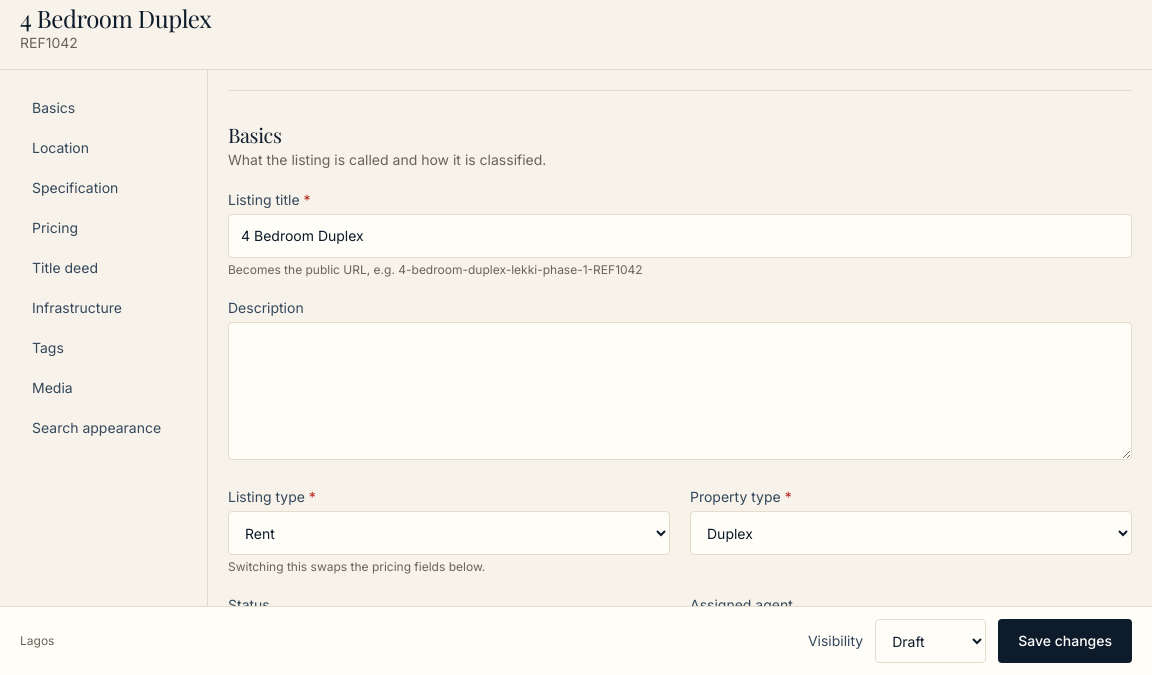
Scenario: PropertyForm › maps a server validation error back onto its field
Click the button "Save changes".
click(1065, 641)  # box [998, 619, 1132, 663]
(page scrolled)
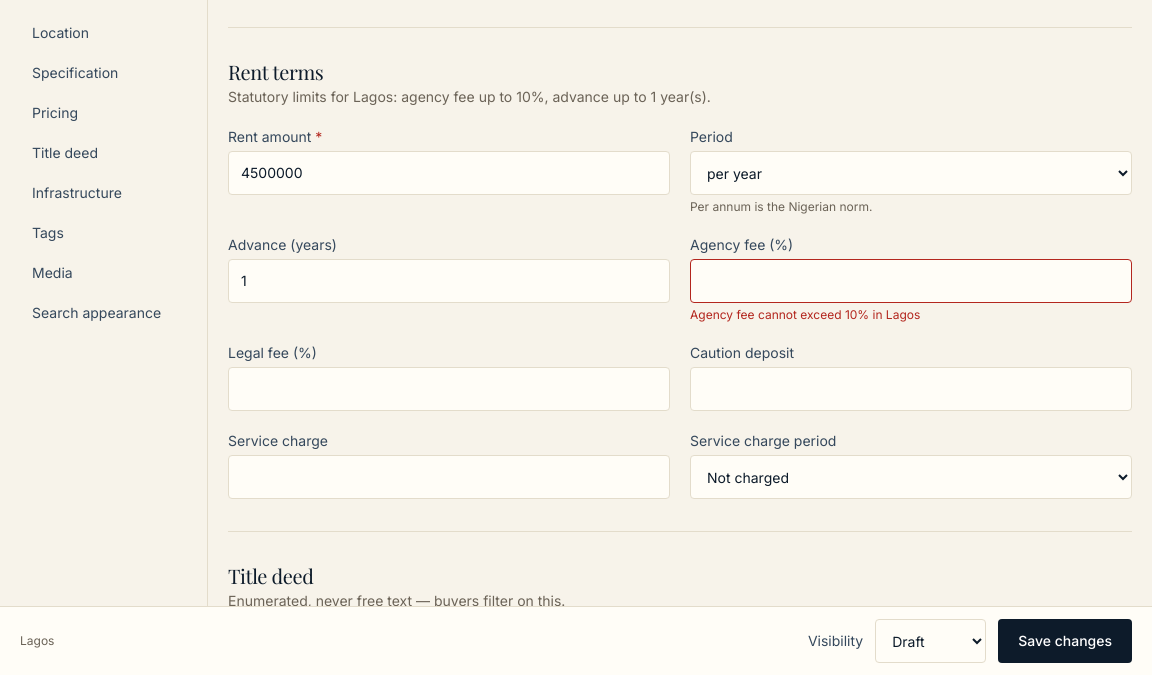
Check: the text "Agency fee cannot exceed 10% in Lagos" is shown, box [690, 307, 920, 322]
